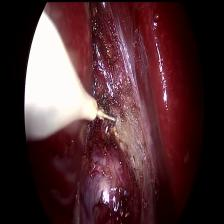Hook: (19, 10, 117, 142)
